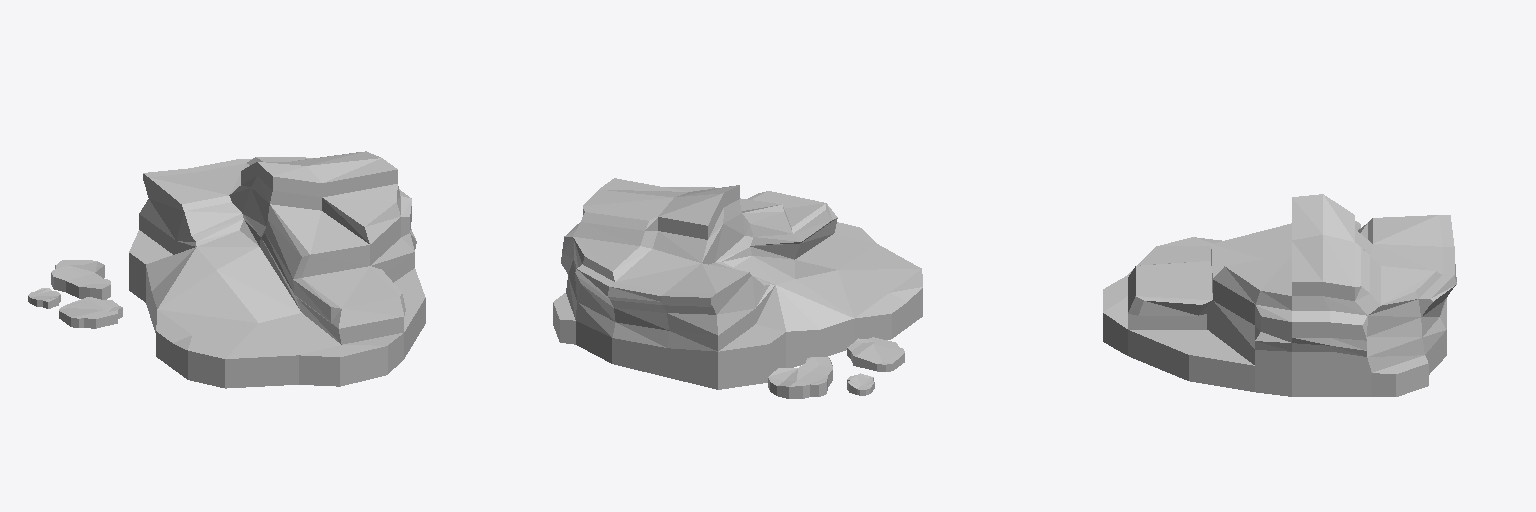
File: IcebergBig.obj
The picture shows the model from 3 angles: view 1: azimuth 30°, elevation 25°; view 2: azimuth 150°, elevation 25°; view 3: azimuth 270°, elevation 25°; orthographic projection.
Visible parts, largest first — view 1: polySurface6_meshId4_name; view 2: polySurface6_meshId4_name; view 3: polySurface6_meshId4_name.
Part boxes in pixels (left/top/right/bottom): polySurface6_meshId4_name: left=28, top=151, right=425, bottom=388; polySurface6_meshId4_name: left=553, top=178, right=922, bottom=398; polySurface6_meshId4_name: left=1103, top=194, right=1456, bottom=396.
Size of the model in its own units: 6.19 by 2.63 by 5.78.